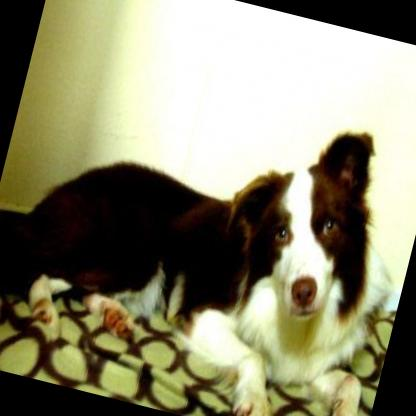Border_collie: (0, 49, 416, 416)
